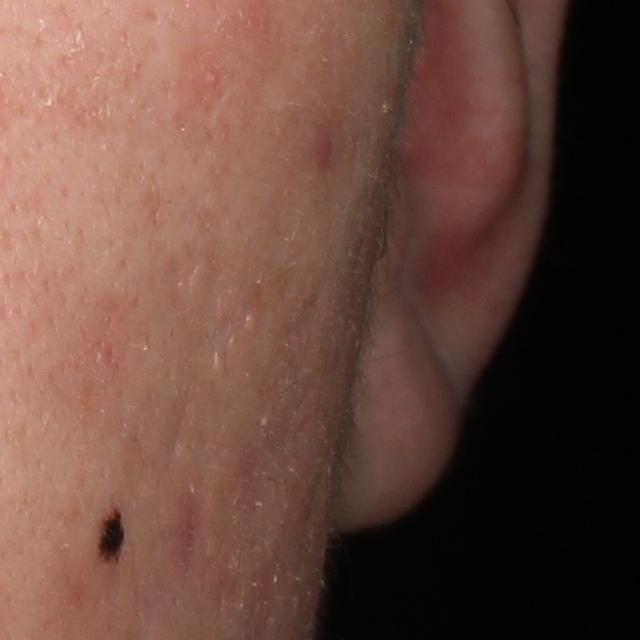nevus: (89, 493, 136, 575)
papule: (308, 129, 336, 168)
